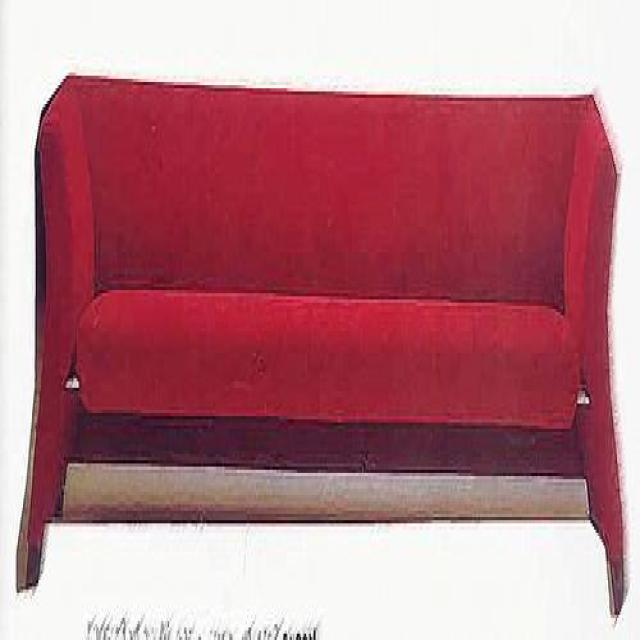sofa: (15, 69, 625, 618)
